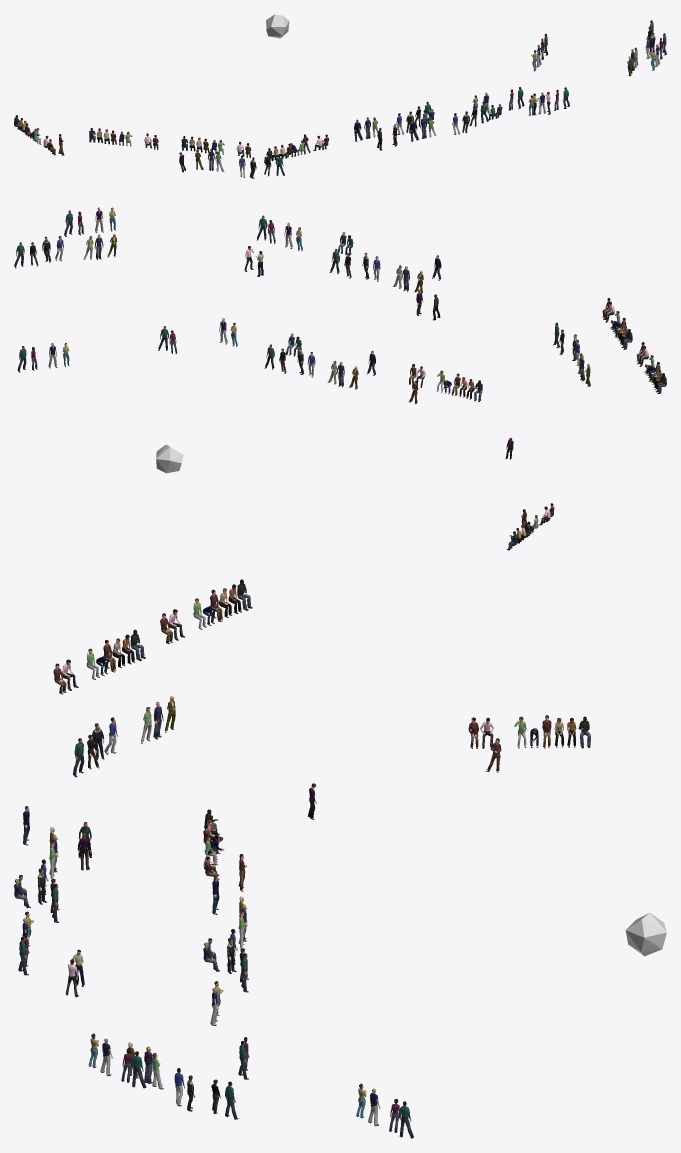
File: arena-audience-bank-v1.glb
3 renders of one model, top to bottom at view 1: azimuth 30°, elevation 25°; view 2: azimuth 150°, elevation 25°; view 3: azimuth 270°, elevation 25°, orthographic. The views are drawn at different scales.
Parts seen in each view (by area): view 1: ArenaAudienceBank_13, ArenaAudienceBank_07, ArenaAudienceBank_04, ArenaAudienceBank_15, ArenaAudienceBank_01, ArenaAudienceBank_84, ArenaAudienceBank_08, ArenaAudienceBank_06, ArenaAudienceBank_11, ArenaAudienceBank_10, ArenaAudienceBank_12, ArenaAudienceBank_09 (+3 smaller); view 2: ArenaAudienceBank_13, ArenaAudienceBank_15, ArenaAudienceBank_07, ArenaAudienceBank_04, ArenaAudienceBank_10, ArenaAudienceBank_01, ArenaAudienceBank_84, ArenaAudienceBank_06, ArenaAudienceBank_11, ArenaAudienceBank_02, ArenaAudienceBank_08; view 3: ArenaAudienceBank_13, ArenaAudienceBank_07, ArenaAudienceBank_04, ArenaAudienceBank_84, ArenaAudienceBank_15, ArenaAudienceBank_01, ArenaAudienceBank_06, ArenaAudienceBank_08, ArenaAudienceBank_02, ArenaAudienceBank_10.
Boxes of the visible parts, x1,y1,x2,y2 form: ArenaAudienceBank_13: [275, 20, 666, 175]; ArenaAudienceBank_07: [33, 47, 638, 171]; ArenaAudienceBank_04: [25, 123, 329, 158]; ArenaAudienceBank_15: [208, 49, 634, 170]; ArenaAudienceBank_01: [30, 119, 418, 157]; ArenaAudienceBank_84: [266, 14, 289, 38]; ArenaAudienceBank_08: [249, 32, 655, 178]; ArenaAudienceBank_06: [43, 92, 550, 156]; ArenaAudienceBank_11: [239, 37, 651, 177]; ArenaAudienceBank_10: [483, 44, 660, 114]; ArenaAudienceBank_12: [264, 26, 651, 176]; ArenaAudienceBank_09: [472, 49, 655, 115]; ArenaAudienceBank_13: [14, 210, 559, 372]; ArenaAudienceBank_15: [94, 232, 585, 387]; ArenaAudienceBank_07: [83, 236, 654, 533]; ArenaAudienceBank_04: [409, 298, 660, 540]; ArenaAudienceBank_10: [48, 207, 292, 368]; ArenaAudienceBank_01: [367, 255, 656, 537]; ArenaAudienceBank_84: [156, 444, 183, 473]; ArenaAudienceBank_06: [244, 246, 648, 525]; ArenaAudienceBank_11: [55, 236, 580, 377]; ArenaAudienceBank_02: [474, 329, 666, 550]; ArenaAudienceBank_08: [42, 236, 577, 374]; ArenaAudienceBank_13: [18, 738, 413, 1138]; ArenaAudienceBank_07: [49, 598, 526, 1089]; ArenaAudienceBank_04: [53, 589, 551, 880]; ArenaAudienceBank_84: [625, 912, 666, 956]; ArenaAudienceBank_15: [14, 701, 247, 1083]; ArenaAudienceBank_01: [23, 604, 538, 914]; ArenaAudienceBank_06: [62, 609, 493, 997]; ArenaAudienceBank_08: [37, 723, 236, 1111]; ArenaAudienceBank_02: [130, 579, 590, 838]; ArenaAudienceBank_10: [22, 918, 380, 1126].
Size of the model in its own units: 51.8 by 8.13 by 30.83.
21 materials, 21 textured.
